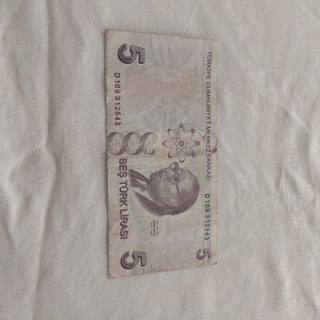5TLBack: (103, 28, 220, 278)
